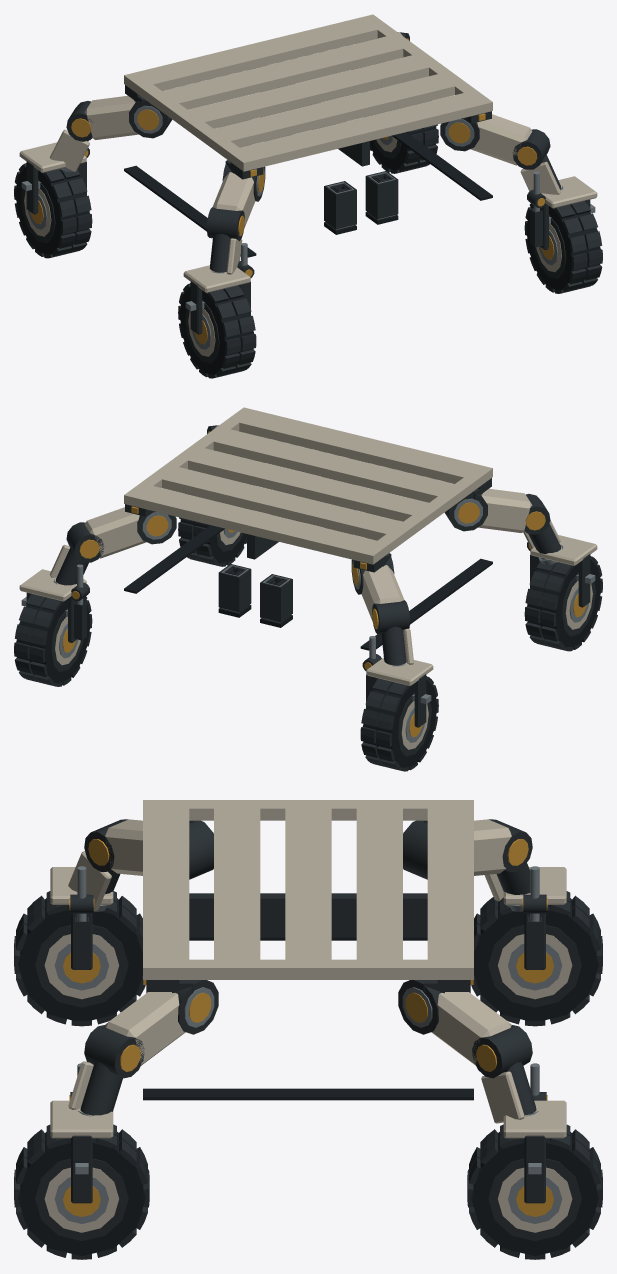
Rendered from stride02_deployed_d0_lod1.glb.
3 views of the same model, one above another, from view 1: azimuth 30°, elevation 25°; view 2: azimuth 150°, elevation 25°; view 3: azimuth 270°, elevation 25° (orthographic). The views are drawn at different scales.
Parts seen in each view (by area): view 1: PALLET_SURFACE, WHEEL_FL_SURFACE, WHEEL_RL_SURFACE, WHEEL_FR_SURFACE, LEG_RL_UPPER_SURFACE, LEG_FR_UPPER_SURFACE, LEG_FL_LOWER_SURFACE, WHEEL_RR_SURFACE, LEG_FR_LOWER_SURFACE, LEG_RL_LOWER_SURFACE, LEG_FL_UPRIGHT_SURFACE, LEG_FL_UPPER_SURFACE (+2 smaller); view 2: PALLET_SURFACE, WHEEL_RL_SURFACE, WHEEL_FL_SURFACE, WHEEL_RR_SURFACE, LEG_RR_UPPER_SURFACE, LEG_FL_UPPER_SURFACE, LEG_RL_LOWER_SURFACE, LEG_RR_LOWER_SURFACE, WHEEL_FR_SURFACE, LEG_RL_UPRIGHT_SURFACE, LEG_RL_UPPER_SURFACE, LEG_FL_UPRIGHT_SURFACE (+2 smaller); view 3: PALLET_SURFACE, WHEEL_FR_SURFACE, WHEEL_RR_SURFACE, WHEEL_FL_SURFACE, WHEEL_RL_SURFACE, LEG_FR_UPPER_SURFACE, LEG_RR_UPPER_SURFACE, LEG_RR_LOWER_SURFACE, LEG_FR_LOWER_SURFACE, LEG_RR_UPRIGHT_SURFACE, LEG_FR_UPRIGHT_SURFACE, LEG_FL_UPPER_SURFACE (+7 smaller).
Part boxes in pixels (left/top/right/bottom): PALLET_SURFACE: left=124, top=14, right=492, bottom=257; WHEEL_FL_SURFACE: left=178, top=283, right=256, bottom=378; WHEEL_RL_SURFACE: left=14, top=163, right=92, bottom=258; WHEEL_FR_SURFACE: left=524, top=201, right=602, bottom=293; LEG_RL_UPPER_SURFACE: left=84, top=95, right=172, bottom=139; LEG_FR_UPPER_SURFACE: left=440, top=114, right=532, bottom=165; LEG_FL_LOWER_SURFACE: left=207, top=207, right=244, bottom=274; WHEEL_RR_SURFACE: left=370, top=124, right=438, bottom=173; LEG_FR_LOWER_SURFACE: left=512, top=129, right=563, bottom=194; LEG_RL_LOWER_SURFACE: left=49, top=101, right=92, bottom=172; LEG_FL_UPRIGHT_SURFACE: left=183, top=265, right=250, bottom=334; LEG_FL_UPPER_SURFACE: left=212, top=160, right=265, bottom=228; PALLET_SURFACE: left=124, top=407, right=492, bottom=650; WHEEL_RL_SURFACE: left=360, top=676, right=438, bottom=771; WHEEL_FL_SURFACE: left=524, top=556, right=602, bottom=651; WHEEL_RR_SURFACE: left=14, top=594, right=92, bottom=686; LEG_RR_UPPER_SURFACE: left=84, top=507, right=176, bottom=558; LEG_FL_UPPER_SURFACE: left=444, top=488, right=532, bottom=532; LEG_RL_LOWER_SURFACE: left=372, top=600, right=413, bottom=666; LEG_RR_LOWER_SURFACE: left=50, top=522, right=104, bottom=585; WHEEL_FR_SURFACE: left=178, top=517, right=246, bottom=566; LEG_RL_UPRIGHT_SURFACE: left=366, top=657, right=433, bottom=727; LEG_RL_UPPER_SURFACE: left=351, top=553, right=404, bottom=621; LEG_FL_UPRIGHT_SURFACE: left=530, top=535, right=597, bottom=607; PALLET_SURFACE: left=143, top=800, right=473, bottom=1100; WHEEL_FR_SURFACE: left=14, top=1124, right=149, bottom=1259; WHEEL_RR_SURFACE: left=467, top=1124, right=602, bottom=1259; WHEEL_FL_SURFACE: left=14, top=891, right=145, bottom=1026; WHEEL_RL_SURFACE: left=471, top=891, right=602, bottom=1026; LEG_FR_UPPER_SURFACE: left=105, top=980, right=218, bottom=1065; LEG_RR_UPPER_SURFACE: left=398, top=980, right=511, bottom=1065; LEG_RR_LOWER_SURFACE: left=472, top=1025, right=538, bottom=1123; LEG_FR_LOWER_SURFACE: left=68, top=1025, right=144, bottom=1116; LEG_RR_UPRIGHT_SURFACE: left=503, top=1100, right=566, bottom=1203; LEG_FR_UPRIGHT_SURFACE: left=50, top=1100, right=113, bottom=1203; LEG_FL_UPPER_SURFACE: left=105, top=819, right=213, bottom=879.
Size of the model in its own units: 1.95 by 0.83 by 1.78.
